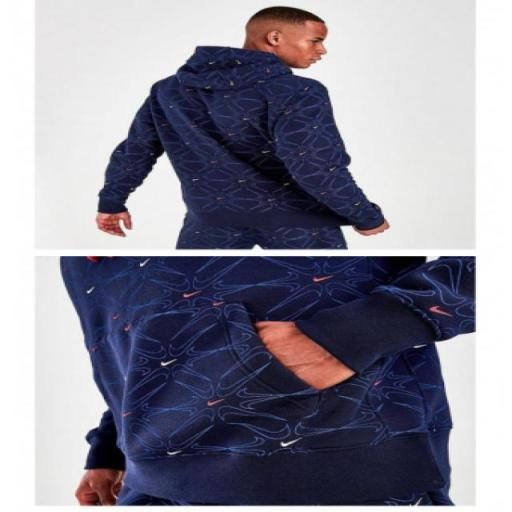Nike: (150, 358, 180, 367)
